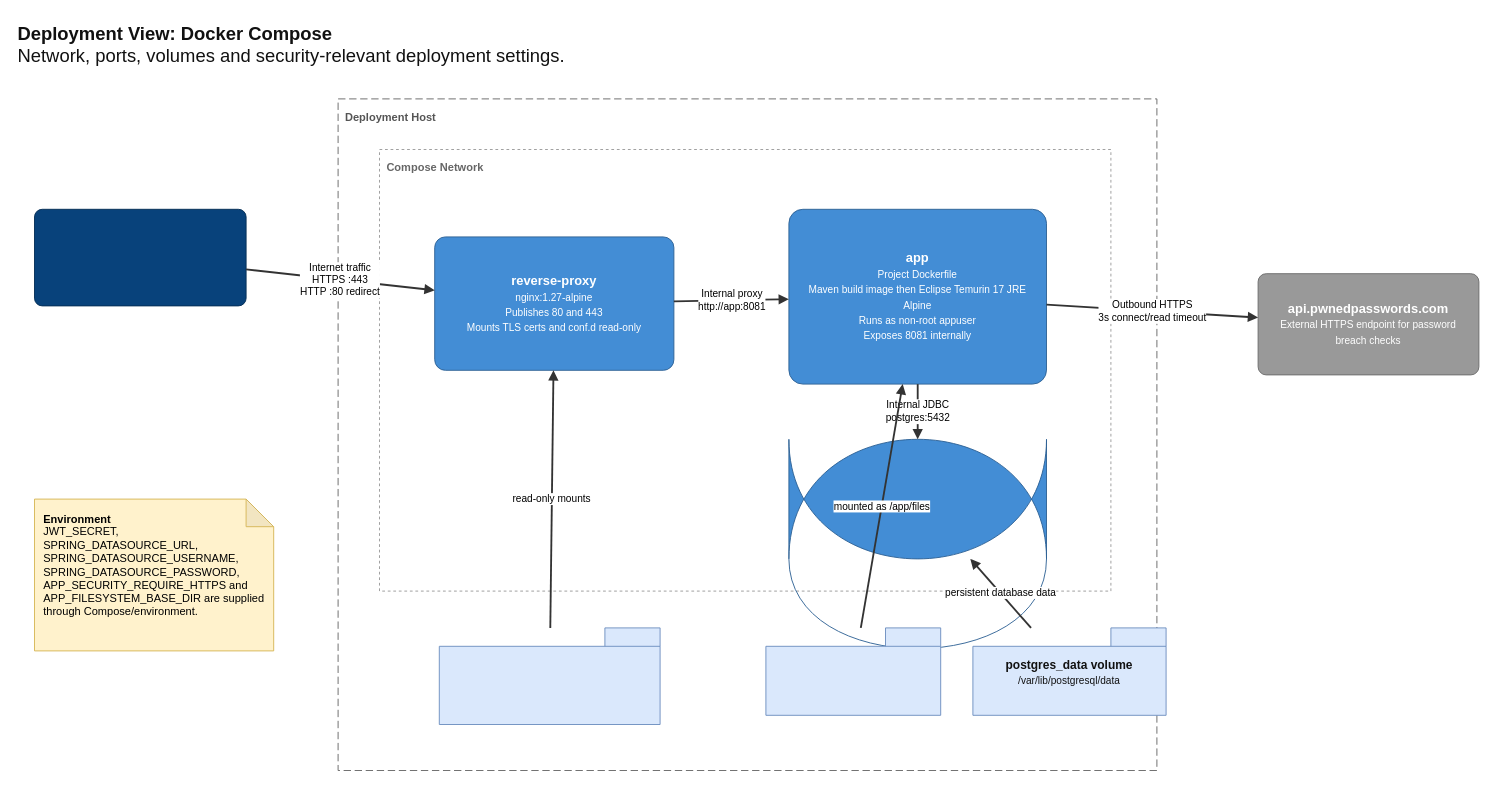
The diagram is 1495 pixels wide and 787 high, and some of its shapes have lost their labels. Each missing label, with the centre of its shape:
app_files volume /app/files: the point at 853,671
Host certs/config deploy/nginx/conf.d deploy/nginx/certs: the point at 549,675
postgres postgres:16-alpine Health checked with pg_isready Database: cafeteriadb: the point at 917,498
User Device Browser, mobile app or API client: the point at 140,257
